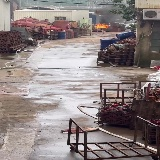fire: (96, 24, 109, 28)
